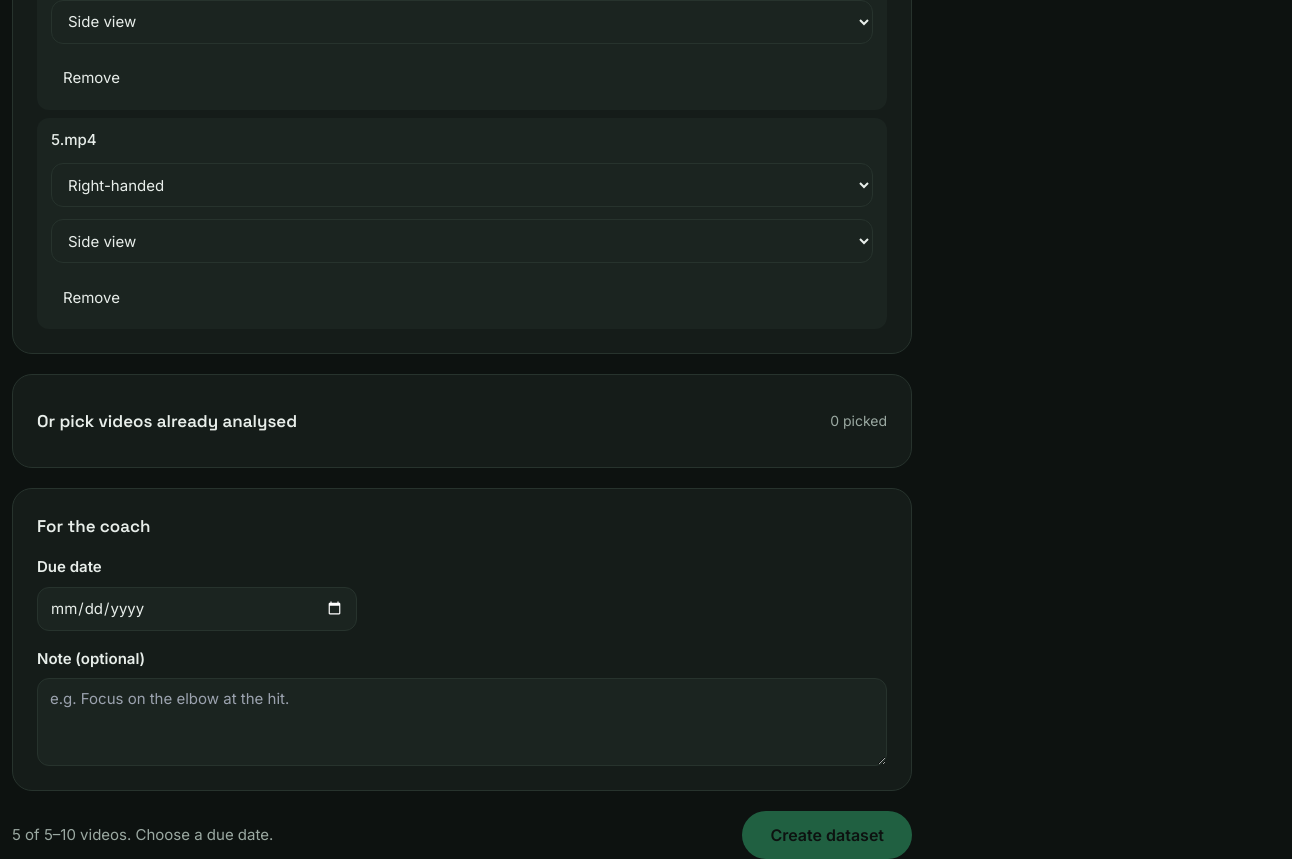
Scenario: CreateDataset › shows the server's reason when the dataset is refused
Earlier steps of the test are not shown.
(page scrolled)
Type "2026-11-20" into the date field labelled "Due date" at (197, 609), box 37,587 -> 357,631
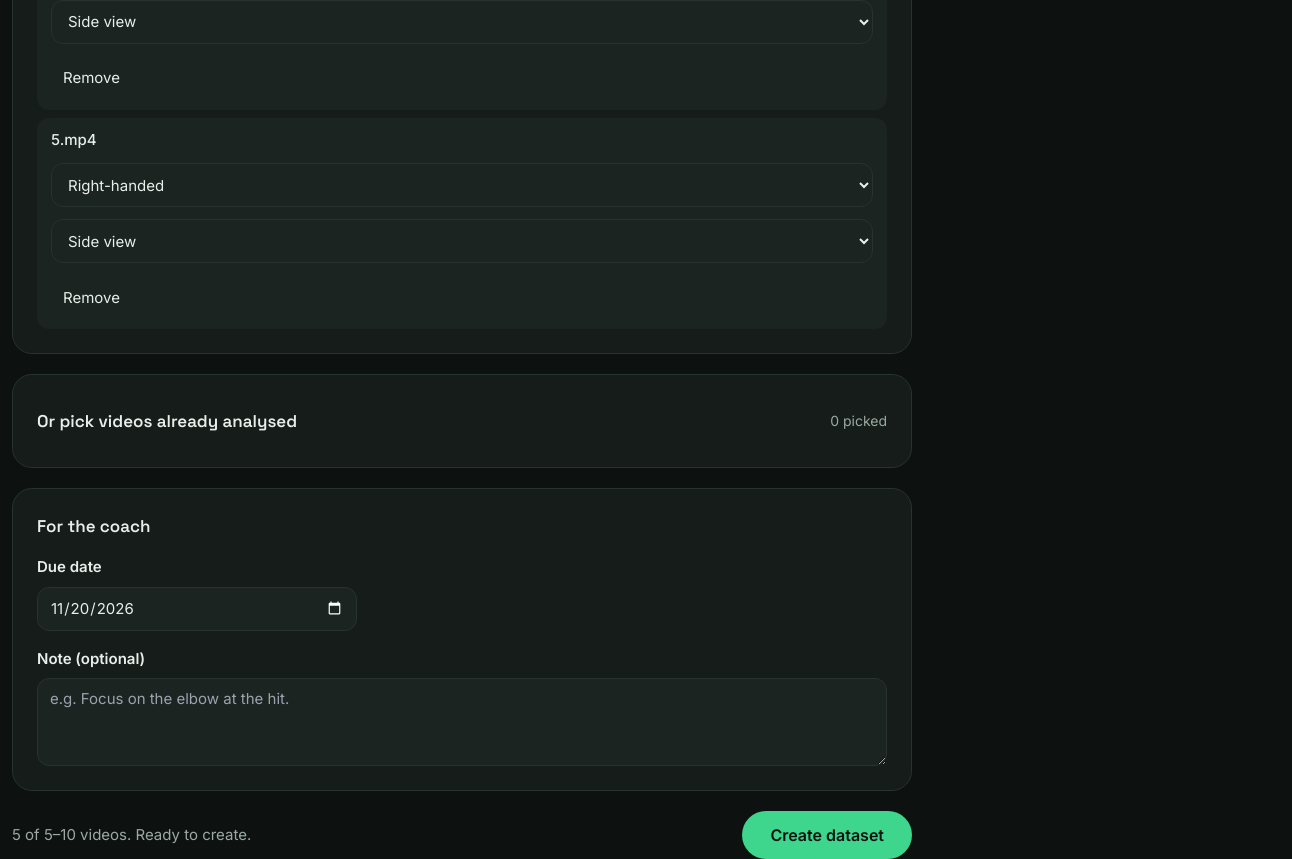
Click the button "Create dataset" at (827, 835), box 742,811 -> 912,858
(page scrolled)
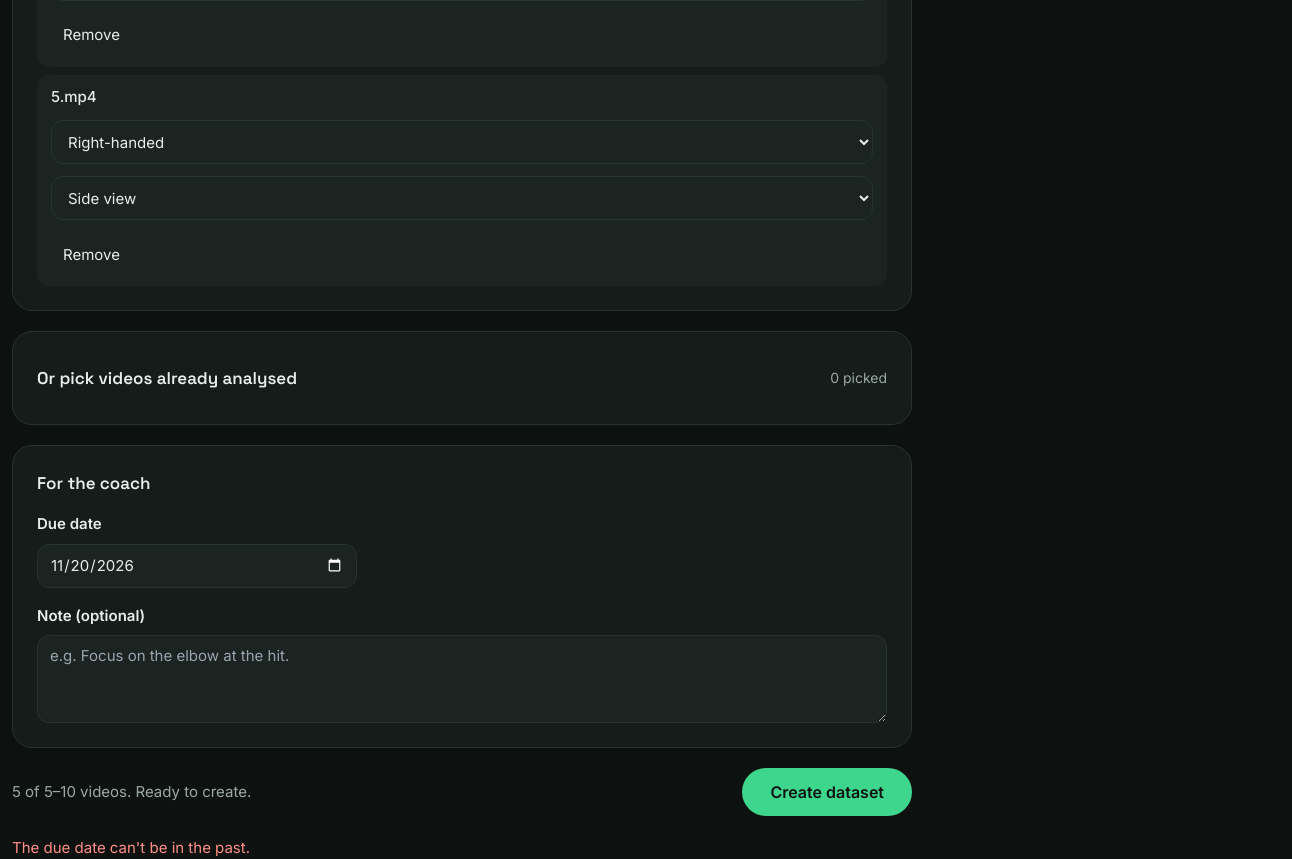
Expected: the message "The due date can't be in the past." is shown, 12,838 -> 250,857
